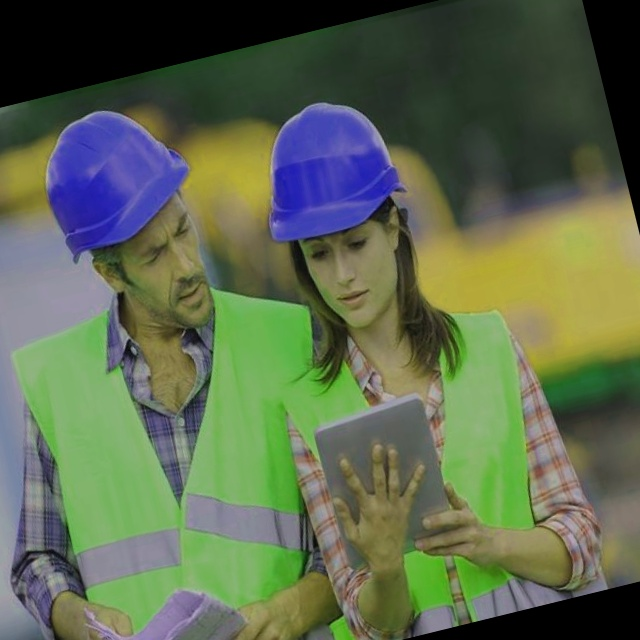Con_Casco: (262, 95, 428, 324)
Con_Chaleco: (0, 274, 355, 640)
